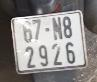2: (50, 43, 64, 68), (24, 46, 36, 69)
6: (66, 42, 77, 66), (22, 20, 33, 43)
7: (33, 18, 43, 39)
8: (63, 15, 73, 41)
9: (38, 43, 48, 67)
N: (51, 16, 63, 41)
